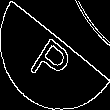P_NE: (29, 24, 81, 86)
